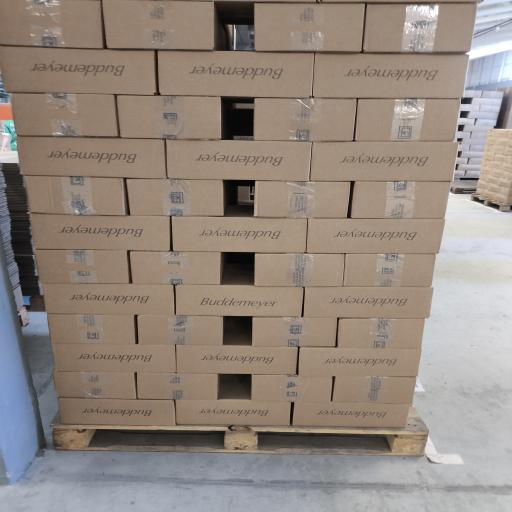pallet: (52, 407, 428, 456), (471, 194, 511, 211), (451, 180, 477, 194), (451, 187, 475, 194)
